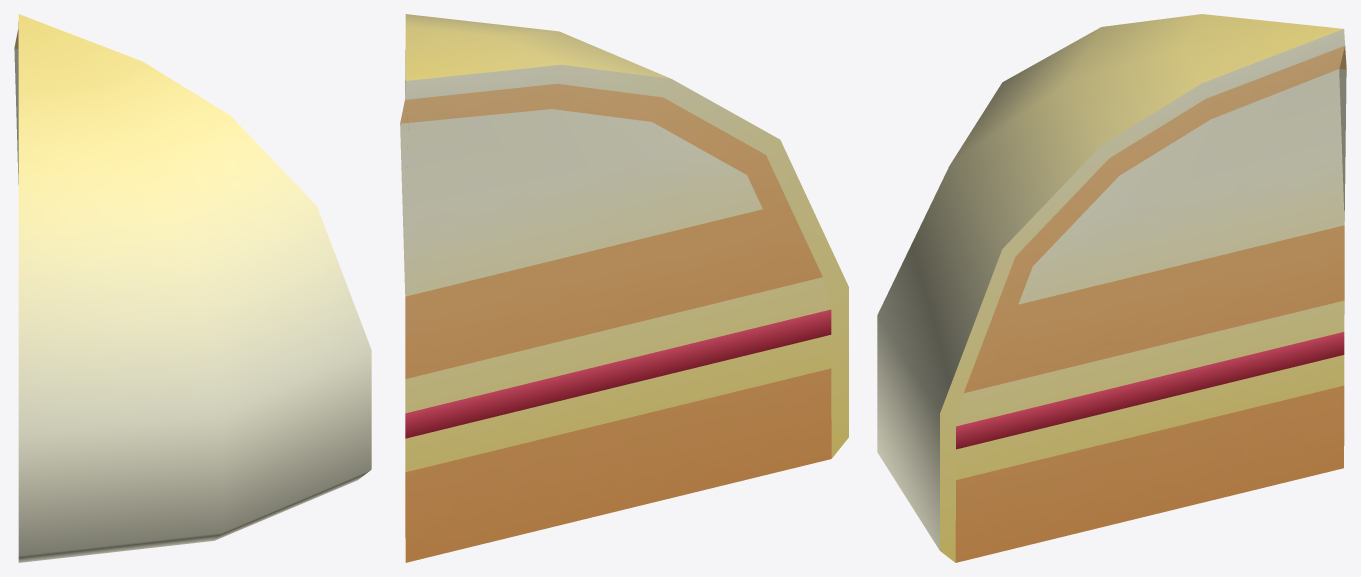
The model's file is m_PrincessCake04_Slice.fbx.
The picture shows the model from 3 angles, left to right: view 1: azimuth 30°, elevation 25°; view 2: azimuth 150°, elevation 25°; view 3: azimuth 270°, elevation 25°; orthographic projection. The views are drawn at different scales.
Parts seen in each view (by area): view 1: m_PrincessCake04_Slice; view 2: m_PrincessCake04_Slice; view 3: m_PrincessCake04_Slice.
Boxes of the visible parts, x1=… form: m_PrincessCake04_Slice: x1=14, y1=14, x2=371, y2=562; m_PrincessCake04_Slice: x1=400, y1=14, x2=848, y2=562; m_PrincessCake04_Slice: x1=877, y1=14, x2=1346, y2=562.
Bounding box in the file's own units: 14 × 14.54 × 14.07.
